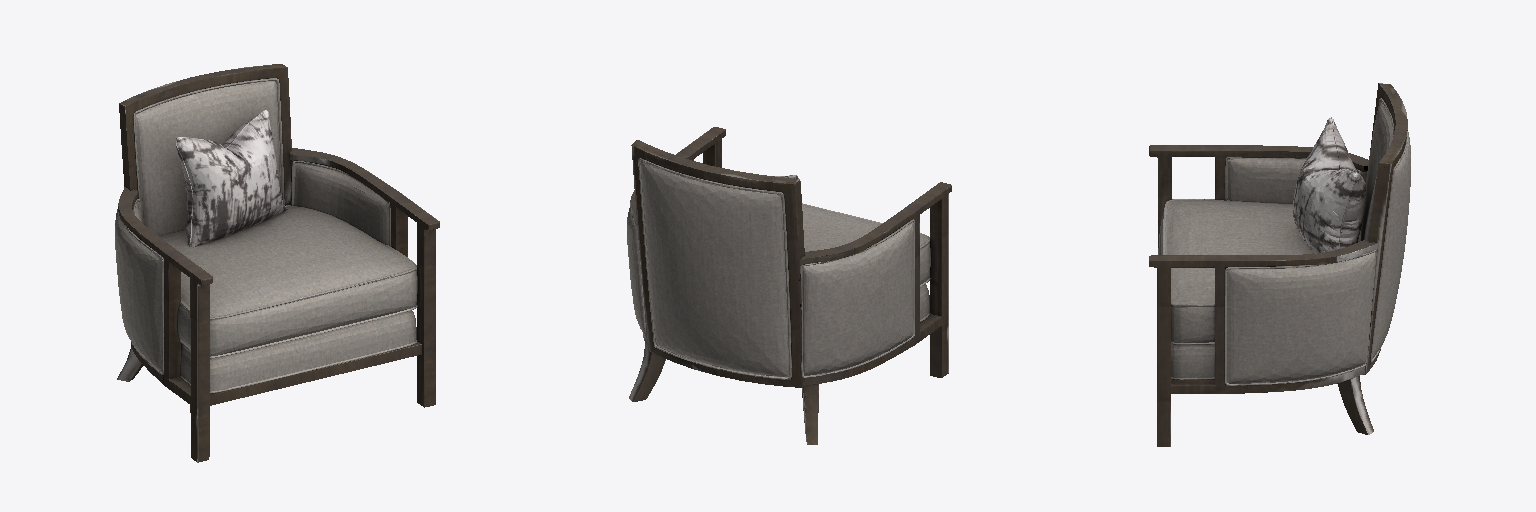
3 renders of one model, left to right at view 1: azimuth 30°, elevation 25°; view 2: azimuth 150°, elevation 25°; view 3: azimuth 270°, elevation 25°, orthographic.
Parts seen in each view (by area): view 1: solid_002, solid_003, solid_001; view 2: solid_002, solid_003; view 3: solid_002, solid_003, solid_001.
Part boxes in pixels (x1,y1,x2,y2): solid_002: (115, 78, 417, 393); solid_003: (117, 64, 439, 462); solid_001: (176, 110, 287, 246); solid_002: (627, 158, 930, 379); solid_003: (629, 127, 951, 444); solid_002: (1158, 98, 1410, 385); solid_003: (1149, 83, 1407, 446); solid_001: (1293, 117, 1366, 253).
Bounding box in the file's own units: 1.32 × 1.34 × 1.2.
1 materials, 1 textured.